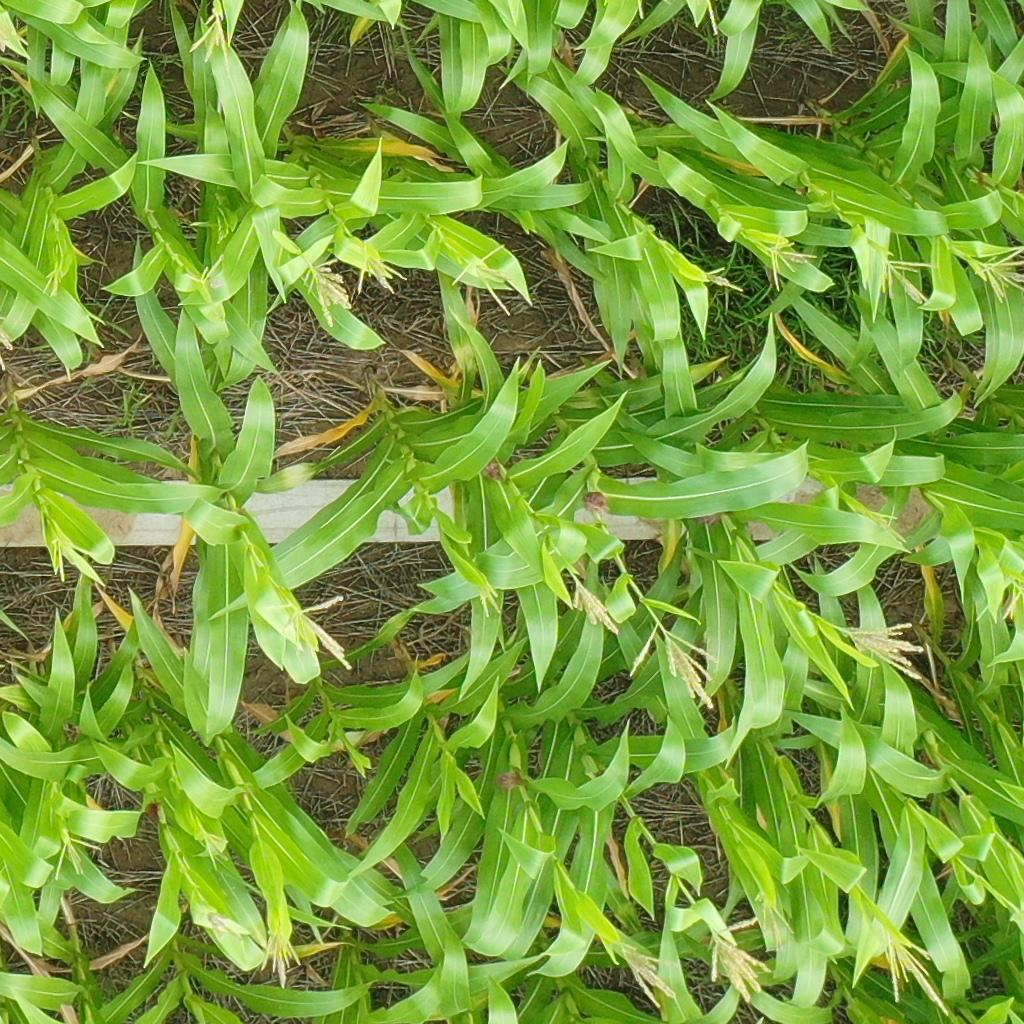Tassel: (626, 618, 720, 707), (876, 921, 948, 1017), (274, 592, 357, 670), (706, 914, 773, 1004), (844, 620, 927, 683), (448, 242, 517, 315), (621, 947, 684, 1018), (870, 251, 936, 308), (967, 242, 1024, 304), (301, 257, 352, 326), (764, 231, 818, 290), (256, 923, 301, 992), (567, 576, 620, 634), (355, 246, 404, 295), (751, 893, 791, 950), (852, 504, 910, 543), (54, 836, 102, 883), (188, 9, 229, 64), (52, 537, 97, 584), (183, 252, 230, 293), (202, 911, 247, 944), (199, 828, 233, 867), (37, 260, 65, 299), (1003, 570, 1024, 622), (701, 266, 744, 289), (476, 577, 499, 616), (1, 309, 14, 370)
